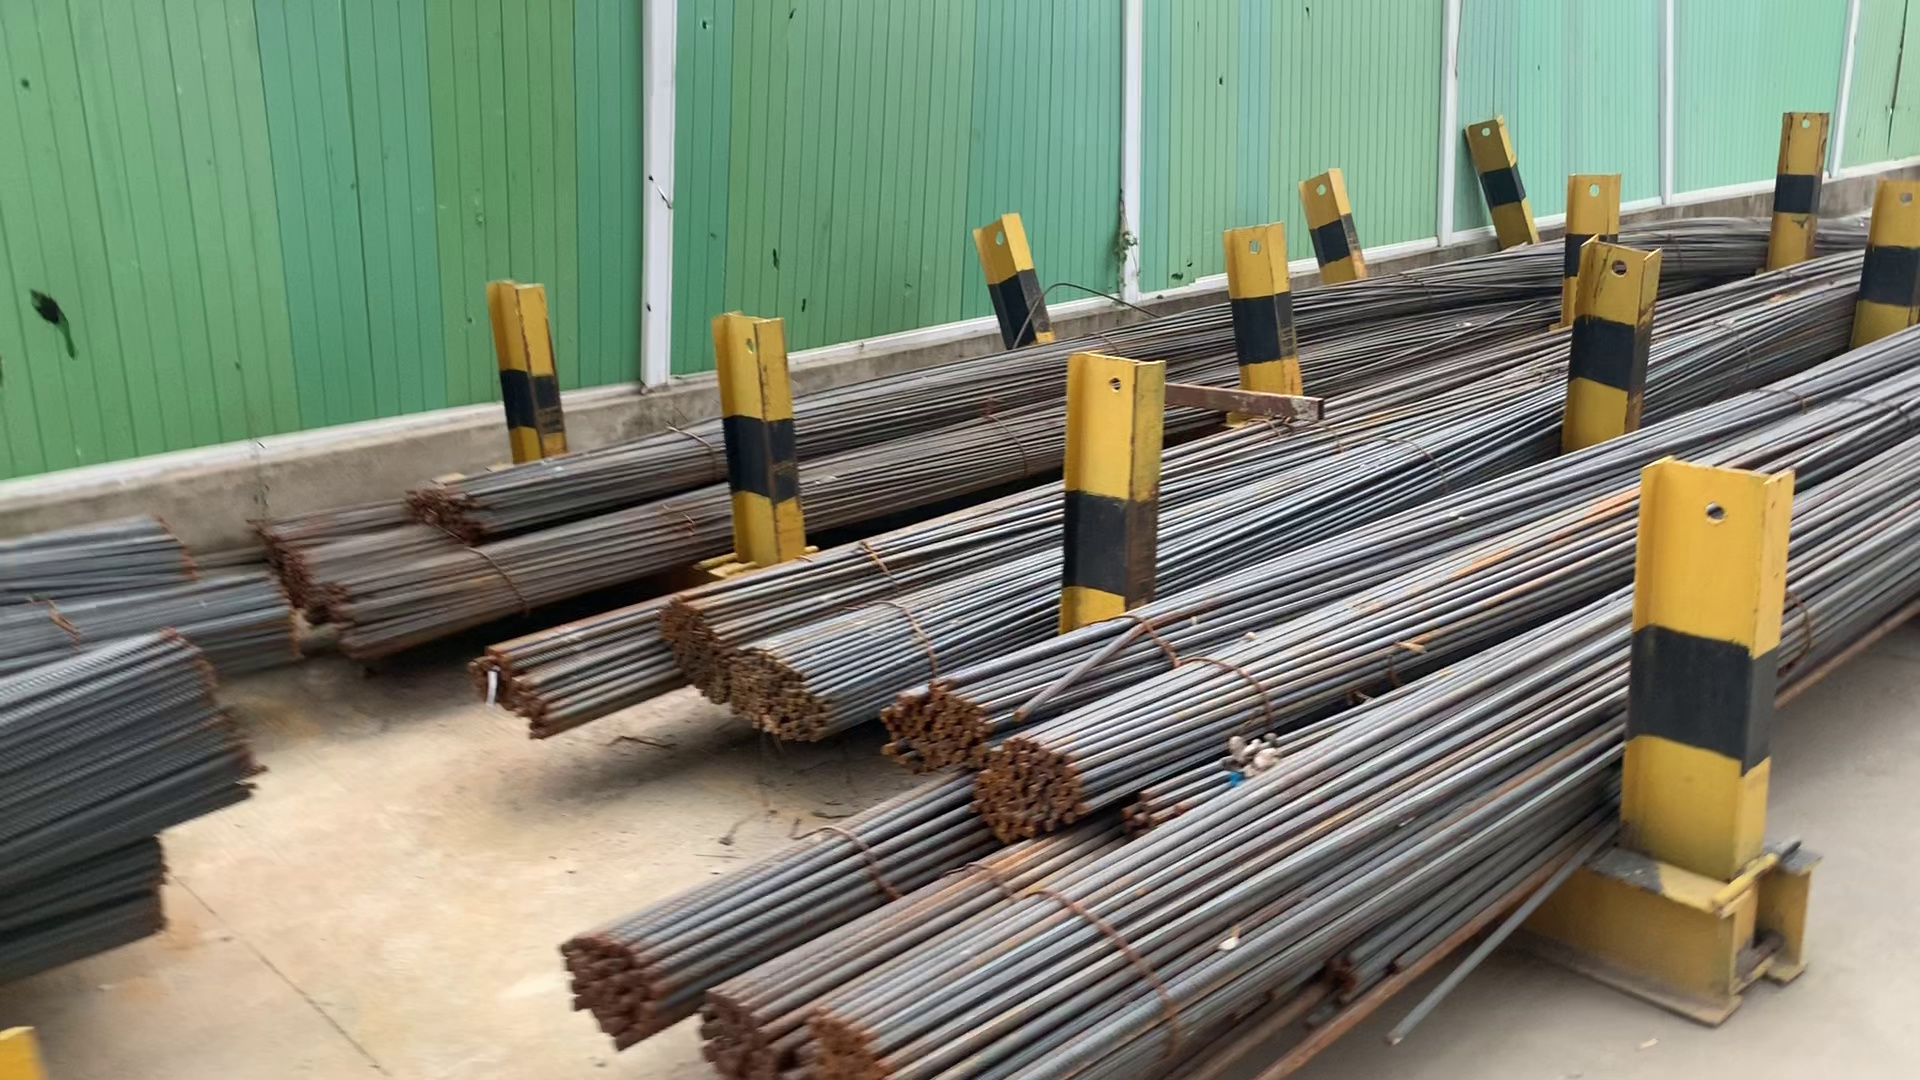rebar: (976, 746, 1097, 847), (562, 928, 659, 1050), (688, 985, 786, 1080), (733, 647, 833, 738), (873, 691, 982, 770), (469, 646, 546, 738), (661, 595, 724, 704), (808, 1007, 898, 1080), (415, 483, 500, 541), (334, 587, 377, 673), (282, 553, 328, 629)
